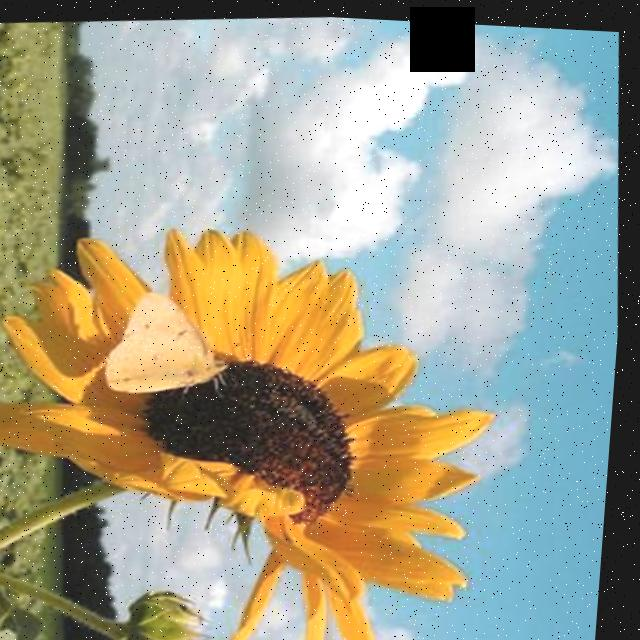sunflower: (0, 187, 629, 640)
